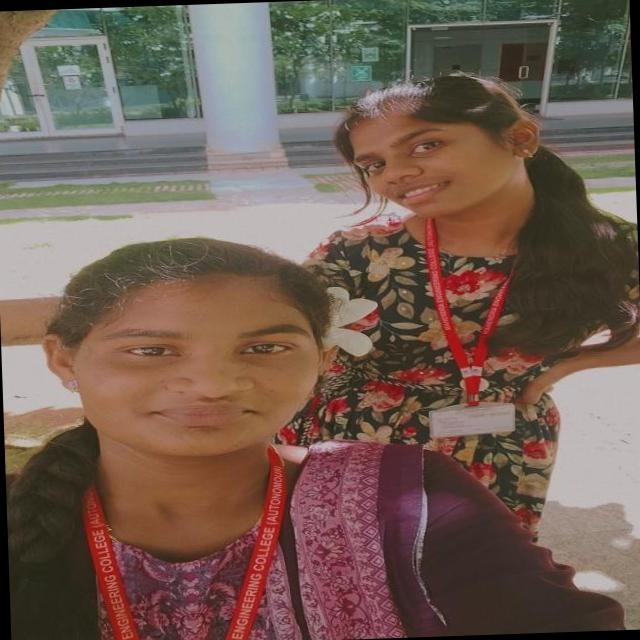id_card: (67, 451, 294, 640), (394, 200, 540, 439)
